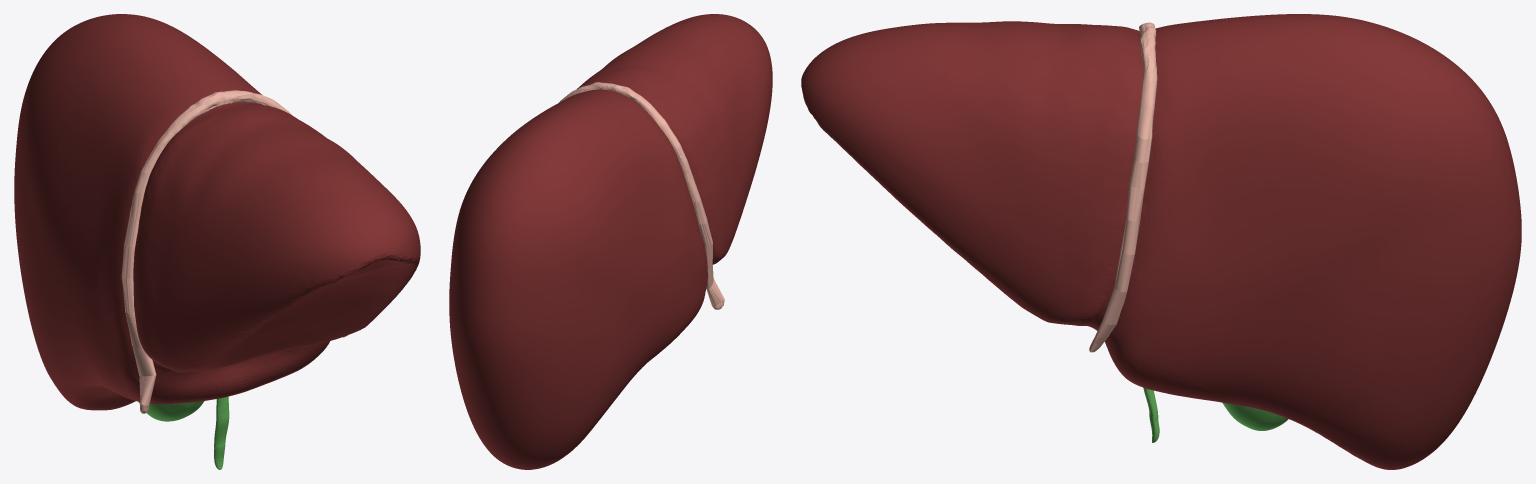
File: Hati.fbx
3 renders of one model, left to right at view 1: azimuth 30°, elevation 25°; view 2: azimuth 150°, elevation 25°; view 3: azimuth 270°, elevation 25°, orthographic. The views are drawn at different scales.
Parts seen in each view (by area): view 1: LIVER:Group48078, LIVER:Group65111, LIVER:Group33637; view 2: LIVER:Group48078, LIVER:Group65111; view 3: LIVER:Group48078, LIVER:Group65111, LIVER:Group33637.
Part boxes in pixels (<box>): LIVER:Group48078: <box>14,14,420,410</box>; LIVER:Group65111: <box>121,90,347,413</box>; LIVER:Group33637: <box>138,396,229,469</box>; LIVER:Group48078: <box>449,14,772,469</box>; LIVER:Group65111: <box>559,82,724,309</box>; LIVER:Group48078: <box>801,14,1521,469</box>; LIVER:Group65111: <box>1089,22,1157,352</box>; LIVER:Group33637: <box>1143,387,1288,442</box>.
Size of the model in its own units: 7.5 by 13.22 by 19.51.
